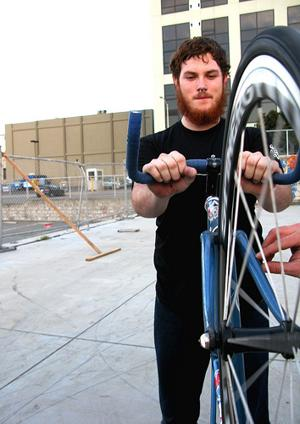person: (130, 33, 295, 422)
